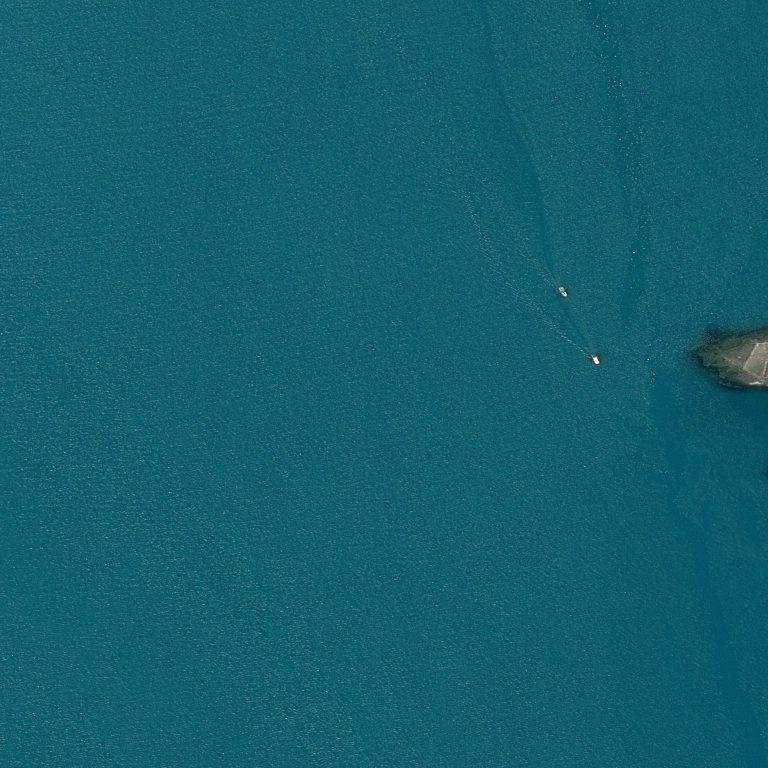ship: (593, 357, 599, 362), (561, 288, 564, 294), (565, 294, 568, 297), (597, 362, 600, 364), (595, 356, 598, 358), (542, 289, 545, 291), (592, 358, 593, 358), (537, 54, 541, 54)
